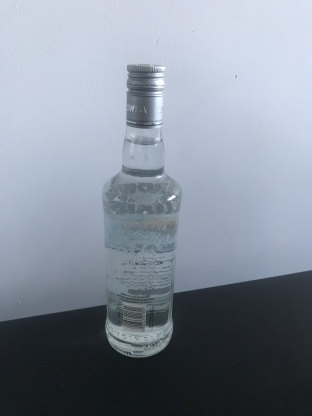nakretka: (124, 61, 167, 130)
